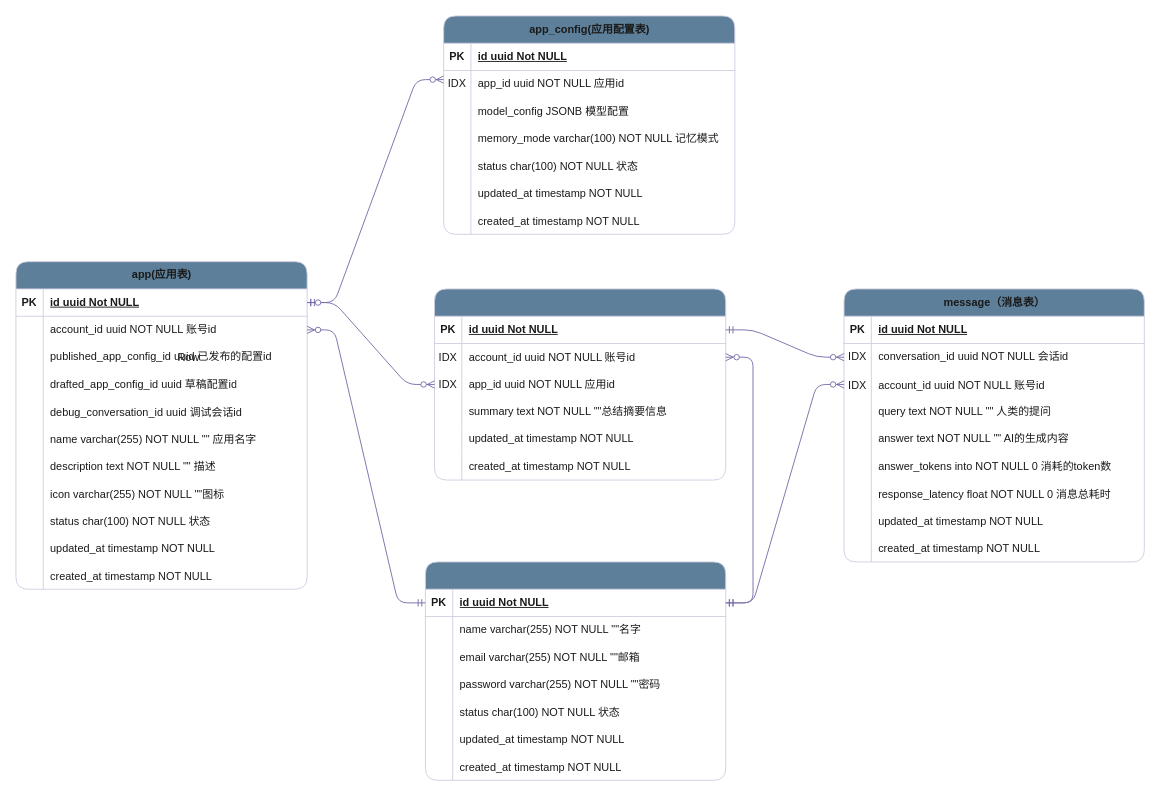
This 1160x796 diagram has some shape labels left out. Here are the shapes that lost their labels. From the top down, the box of each, then its label:
(434, 288, 726, 480): conversation（会话表）
(425, 561, 726, 780): account(用户表)
